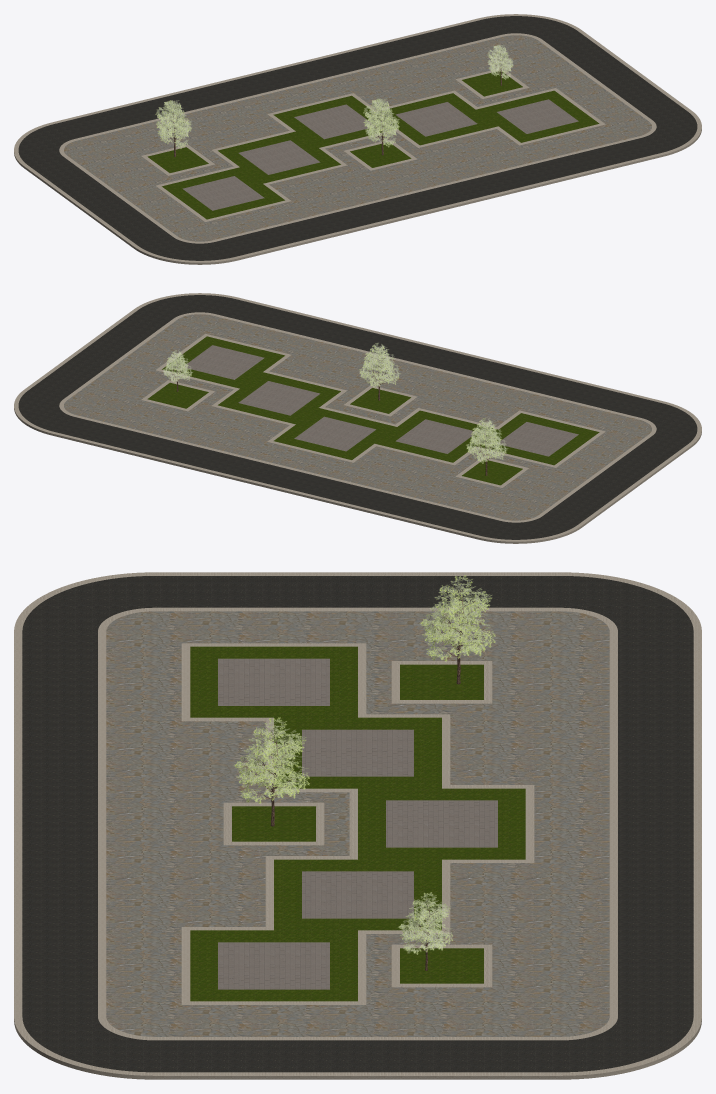
3 views of the same model, one above another, from view 1: azimuth 30°, elevation 25°; view 2: azimuth 150°, elevation 25°; view 3: azimuth 270°, elevation 25° (orthographic). The views are drawn at different scales.
Visible parts, largest first — view 1: 5__Model_-_5_dwg; view 2: 5__Model_-_5_dwg; view 3: 5__Model_-_5_dwg.
Part boxes in pixels (x1,y1,x2,y2): 5__Model_-_5_dwg: (14,14,701,264); 5__Model_-_5_dwg: (14,293,701,543); 5__Model_-_5_dwg: (14,572,701,1079).
Bounding box in the file's own units: 42.6 × 4.21 × 24.6.
Materials: 7 (7 with a texture image).
